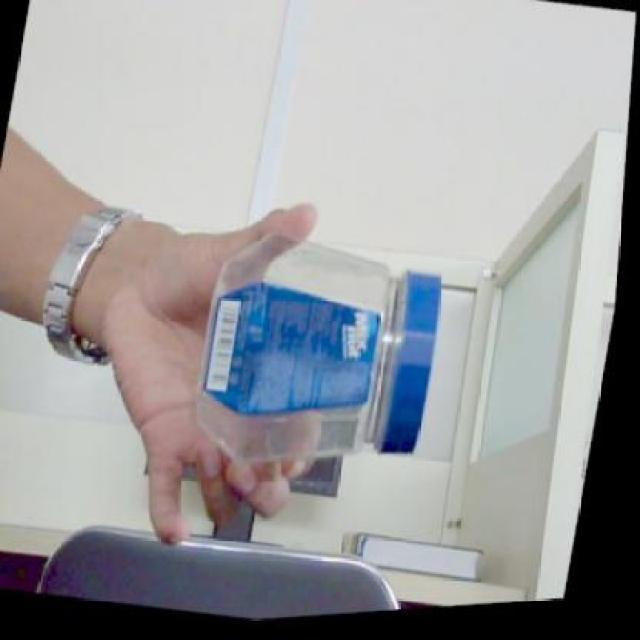Plastic: (194, 239, 443, 477)
